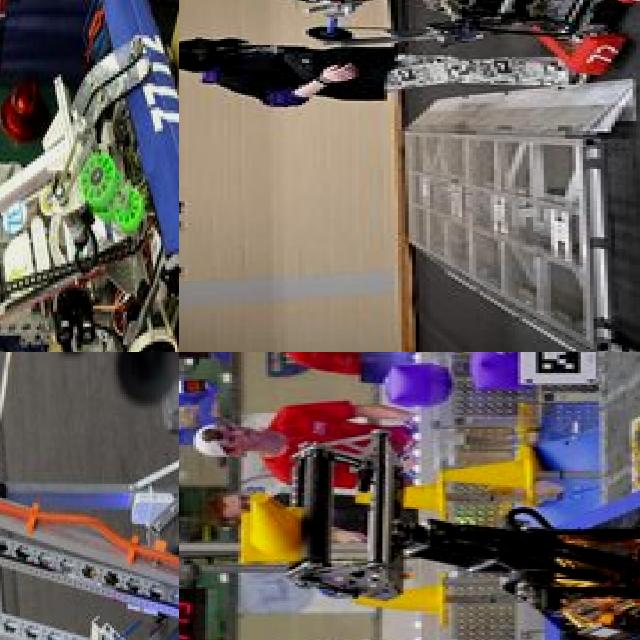FRC-Robots: (233, 407, 640, 640), (0, 0, 179, 352), (0, 352, 179, 640), (292, 0, 640, 106)
